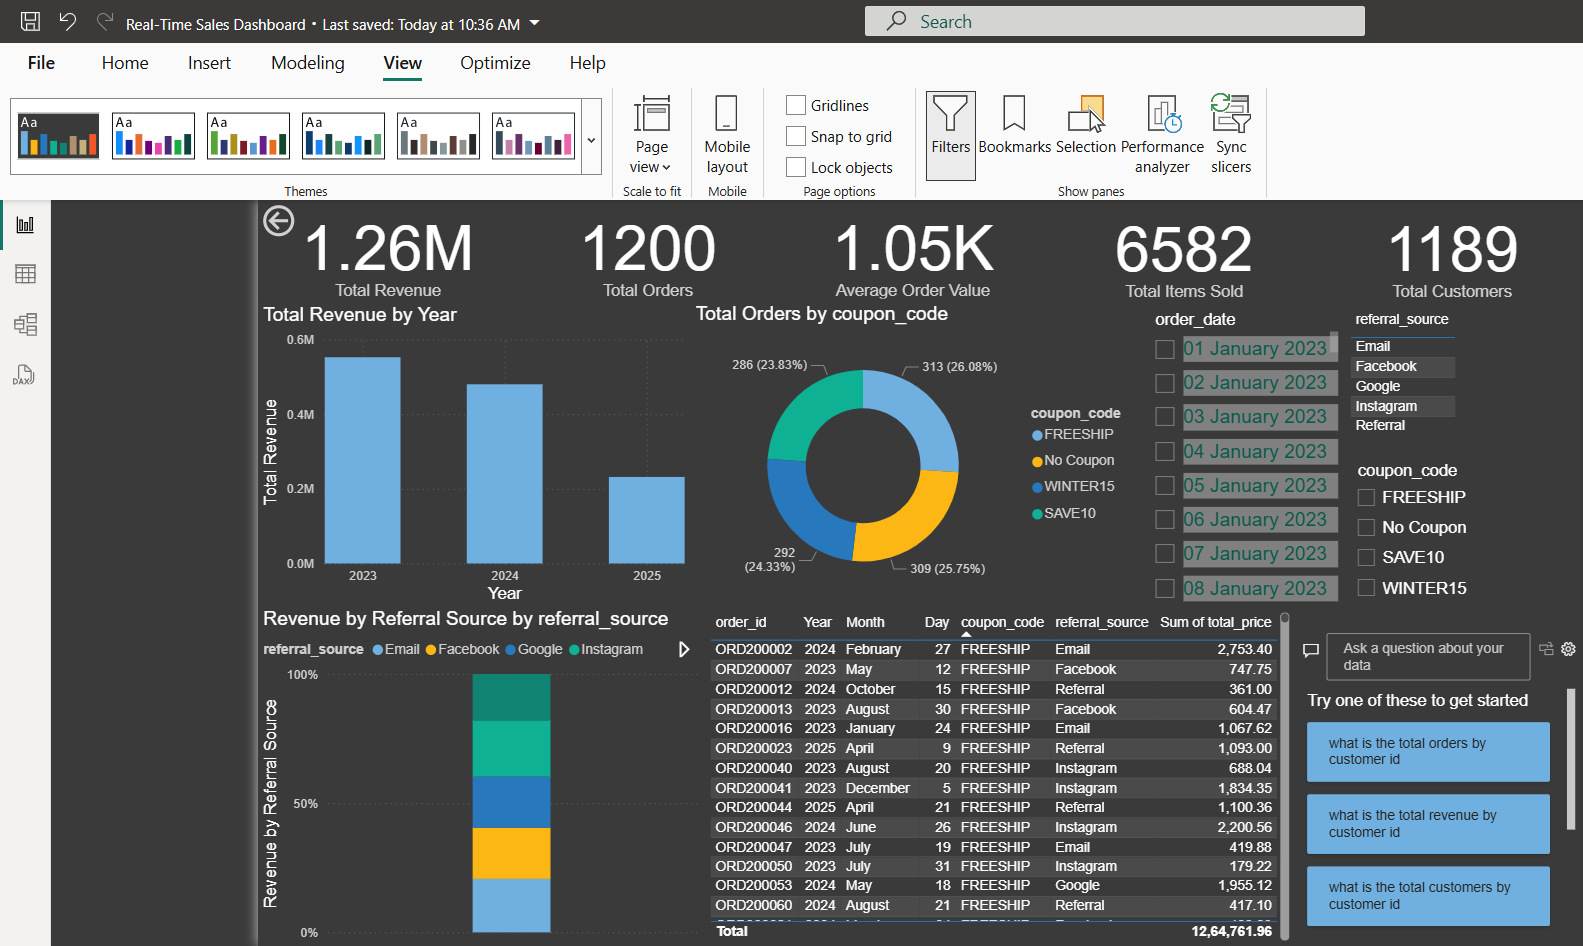

The dashboard page shown, as its layout file describes it:
{"tool":"powerbi","page":{"name":"Page 1","canvas":[1280,720],"ordinal":0},"visuals":[{"type":"card","fields":{"Values":["ecommerce ecommerce_orders.Total Revenue"]},"box":[0,0,251.1,100.2],"z":0},{"type":"card","fields":{"Values":["ecommerce ecommerce_orders.Total Orders"]},"box":[251.1,0,251.1,100.2],"z":1000},{"type":"card","fields":{"Values":["ecommerce ecommerce_orders.Average Order Value"]},"box":[502.2,0,260.7,100.2],"z":2000},{"type":"card","fields":{"Values":["ecommerce ecommerce_orders.Total Items Sold"]},"box":[763,1.4,263.5,100.2],"z":3000},{"type":"card","fields":{"Values":["ecommerce ecommerce_orders.Total Customers"]},"box":[1026,1.2,254.3,100.3],"z":4000},{"type":"lineClusteredColumnComboChart","fields":{"Category":["ecommerce ecommerce_orders.order_date.Variation.Date Hierarchy.Year","ecommerce ecommerce_orders.order_date.Variation.Date Hierarchy.Quarter","ecommerce ecommerce_orders.order_date.Variation.Date Hierarchy.Month","ecommerce ecommerce_orders.order_date.Variation.Date Hierarchy.Day"],"Y":["ecommerce ecommerce_orders.Total Revenue"]},"box":[0,100.3,417,293.5],"z":5000},{"type":"donutChart","fields":{"Category":["ecommerce ecommerce_orders.coupon_code"],"Y":["ecommerce ecommerce_orders.Total Orders"]},"box":[417,99,436.6,294.7],"z":6000},{"type":"hundredPercentStackedColumnChart","fields":{"Y":["ecommerce ecommerce_orders.Revenue by Referral Source"],"Series":["ecommerce ecommerce_orders.referral_source"]},"box":[0,393.8,430.4,326.5],"z":7000},{"type":"tableEx","fields":{"Values":["ecommerce ecommerce_orders.order_id","ecommerce ecommerce_orders.order_date.Variation.Date Hierarchy.Year","ecommerce ecommerce_orders.order_date.Variation.Date Hierarchy.Month","ecommerce ecommerce_orders.order_date.Variation.Date Hierarchy.Day","ecommerce ecommerce_orders.coupon_code","ecommerce ecommerce_orders.referral_source","Sum(ecommerce ecommerce_orders.total_price)"]},"box":[430.4,393.8,569.8,326.5],"z":8000},{"type":"actionButton","box":[0,0,100,40],"z":9000},{"type":"slicer","fields":{"Values":["ecommerce ecommerce_orders.order_date"]},"box":[853.5,101.5,194.4,292.3],"z":9001},{"type":"tableEx","fields":{"Values":["ecommerce ecommerce_orders.referral_source"]},"box":[1048,101.5,232.3,148],"z":9002},{"type":"slicer","fields":{"Values":["ecommerce ecommerce_orders.coupon_code"]},"box":[1048,247,232.3,146.7],"z":9003},{"type":"qnaVisual","box":[1000.3,393.8,280,326.5],"z":9004}]}

Visuals, with their boxes on the page's 1280x720 design canvas (x1, y1, x2, y2). These are canvas units, not pixel positions in the 1583x946 screenshot, which may show the page scaled, cropped or inside an application window:
card - ecommerce ecommerce_orders.Total Revenue: region(0, 0, 251, 100)
card - ecommerce ecommerce_orders.Total Orders: region(251, 0, 502, 100)
card - ecommerce ecommerce_orders.Average Order Value: region(502, 0, 763, 100)
card - ecommerce ecommerce_orders.Total Items Sold: region(763, 1, 1026, 102)
card - ecommerce ecommerce_orders.Total Customers: region(1026, 1, 1280, 102)
lineClusteredColumnComboChart - ecommerce ecommerce_orders.order_date.Variation.Date Hierarchy.Year x ecommerce ecommerce_orders.order_date.Variation.Date Hierarchy.Quarter: region(0, 100, 417, 394)
donutChart - ecommerce ecommerce_orders.coupon_code x ecommerce ecommerce_orders.Total Orders: region(417, 99, 854, 394)
hundredPercentStackedColumnChart - ecommerce ecommerce_orders.Revenue by Referral Source x ecommerce ecommerce_orders.referral_source: region(0, 394, 430, 720)
tableEx - ecommerce ecommerce_orders.order_id x ecommerce ecommerce_orders.order_date.Variation.Date Hierarchy.Year: region(430, 394, 1000, 720)
actionButton: region(0, 0, 100, 40)
slicer - ecommerce ecommerce_orders.order_date: region(854, 102, 1048, 394)
tableEx - ecommerce ecommerce_orders.referral_source: region(1048, 102, 1280, 250)
slicer - ecommerce ecommerce_orders.coupon_code: region(1048, 247, 1280, 394)
qnaVisual: region(1000, 394, 1280, 720)
